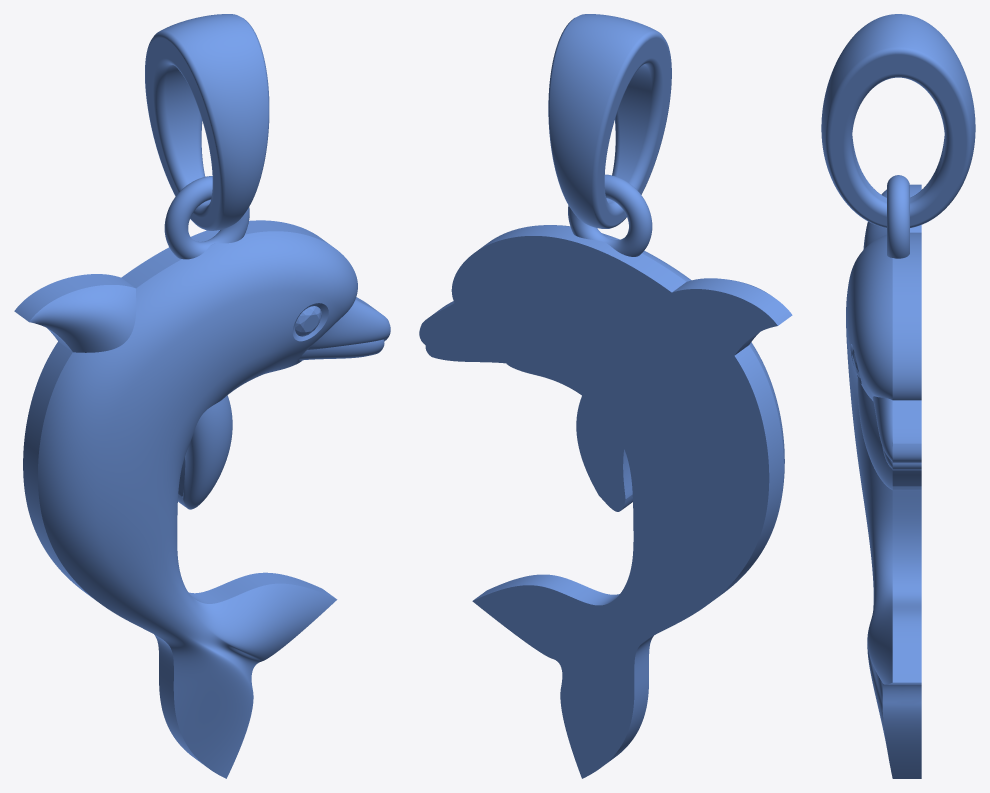
Rendered from delfin.gltf.
3 renders of one model, left to right at view 1: azimuth 30°, elevation 25°; view 2: azimuth 150°, elevation 25°; view 3: azimuth 270°, elevation 25°, orthographic.
Visible parts, largest first — view 1: Mesh_2, Mesh_1; view 2: Mesh_2, Mesh_1; view 3: Mesh_2, Mesh_1.
Part boxes in pixels (left/top/right/bottom): Mesh_2: left=14, top=176, right=390, bottom=778; Mesh_1: left=145, top=14, right=269, bottom=230; Mesh_2: left=419, top=174, right=792, bottom=778; Mesh_1: left=548, top=14, right=671, bottom=228; Mesh_2: left=846, top=175, right=921, bottom=778; Mesh_1: left=821, top=14, right=975, bottom=227.
Bounding box in the file's own units: 1.54 × 3.08 × 0.5777.
